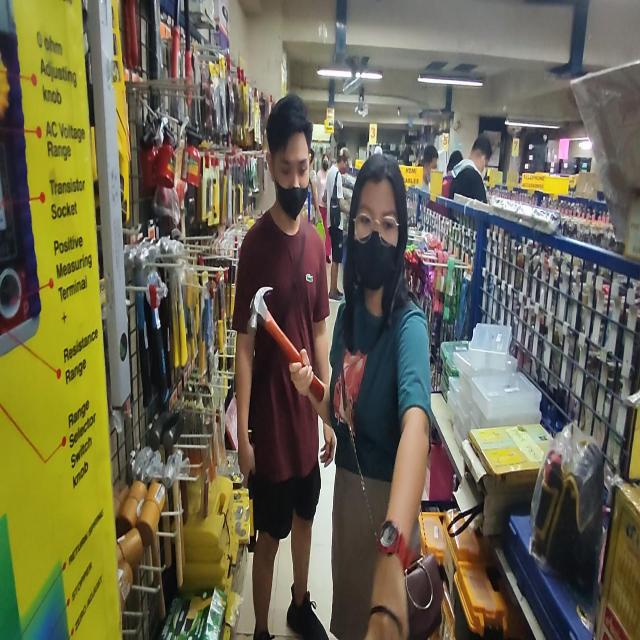hammer: (246, 286, 325, 404), (245, 429, 257, 553)
